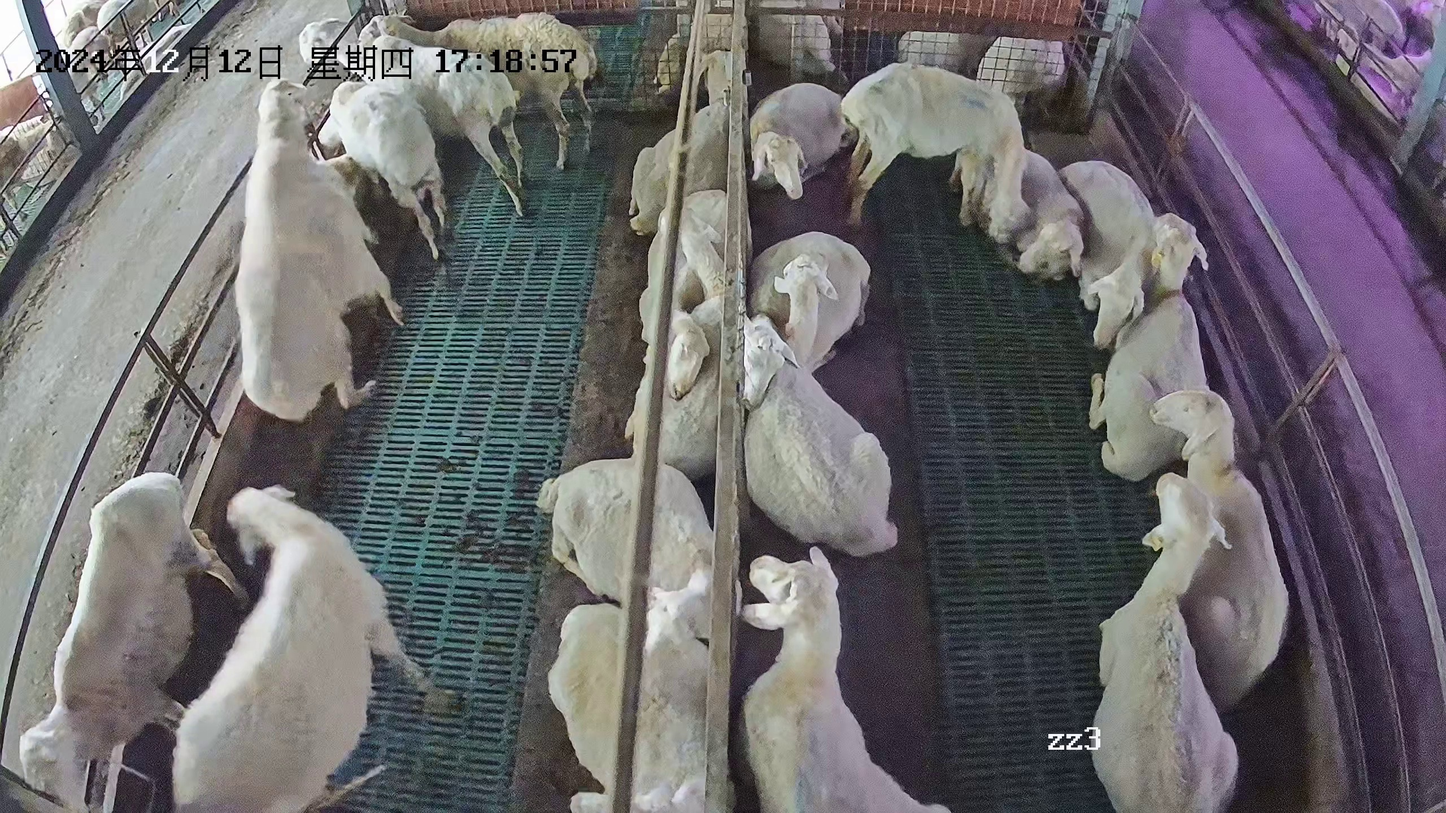Smounting: (230, 78, 410, 423)
mounted: (312, 152, 407, 327)
